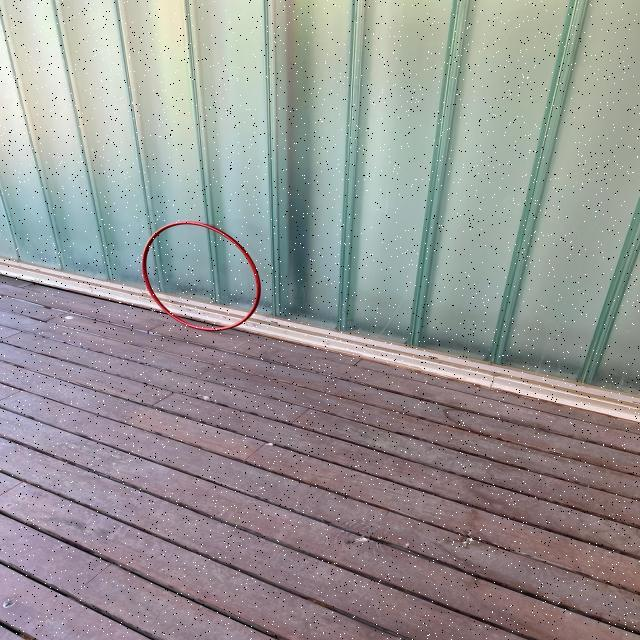Circle: (142, 220, 262, 332)
